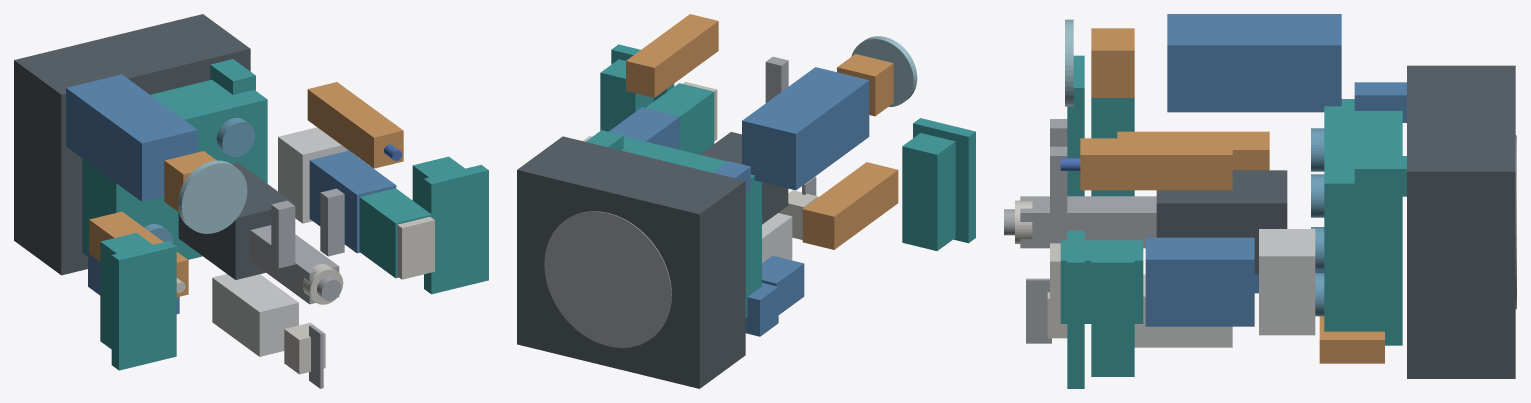
Rendered from dranmar_tumor_resection_tool_traction.glb.
3 views of the same model, side by side, from view 1: azimuth 30°, elevation 25°; view 2: azimuth 150°, elevation 25°; view 3: azimuth 270°, elevation 25° (orthographic). The views are drawn at different scales.
Visible parts, largest first — view 1: Mount_MountBody, BagDeployer_BagDeployerBody, SensorTurret_SensorTurretBody, LeftTraction_LeftPad, RightTraction_RightPad, ScissorCarriage_ScissorCarriageBody, MarginMarker_MarginMarkerBody, AspiratorCarriage_AspiratorCarriageBody, BagDeployer_BagRing, UltrasoundPitch_UltrasoundPitchBody, UltrasoundCompliance_UltrasoundComplianceBody, UltrasoundCarriage_UltrasoundCarriageBody (+15 smaller); view 2: Mount_MountBody, Mount_MountRing, BagDeployer_BagDeployerBody, LeftTraction_LeftTractionBody, RamanProbe_RamanProbeBody, MarginMarker_MarginMarkerBody, SensorTurret_SensorTurretBody, LeftTraction_LeftPad, UltrasoundCompliance_UltrasoundComplianceBody, RightTraction_RightTractionBody, BagDeployer_BagRing, UltrasoundPitch_UltrasoundPitchBody (+10 smaller); view 3: Mount_MountBody, BagDeployer_BagDeployerBody, SensorTurret_SensorTurretBody, UltrasoundPitch_UltrasoundPitchBody, MarginMarker_MarginMarkerBody, AspiratorCarriage_AspiratorCarriageBody, UltrasoundCarriage_UltrasoundCarriageBody, RightTraction_RightTractionBody, AspiratorRotor_AspiratorRotorBody, BagClosure_BagClosureBody, RightTraction_RightPad, RamanProbe_RamanProbeBody (+18 smaller).
Part boxes in pixels (x1,y1,x2,y2): Mount_MountBody: (14, 14, 250, 275); BagDeployer_BagDeployerBody: (66, 74, 197, 201); SensorTurret_SensorTurretBody: (82, 80, 267, 259); LeftTraction_LeftPad: (111, 241, 176, 370); RightTraction_RightPad: (424, 165, 488, 294); ScissorCarriage_ScissorCarriageBody: (212, 274, 298, 356); MarginMarker_MarginMarkerBody: (307, 82, 403, 168); AspiratorCarriage_AspiratorCarriageBody: (178, 162, 294, 279); BagDeployer_BagRing: (178, 160, 247, 233); UltrasoundPitch_UltrasoundPitchBody: (309, 150, 396, 253); UltrasoundCompliance_UltrasoundComplianceBody: (359, 188, 431, 278); UltrasoundCarriage_UltrasoundCarriageBody: (278, 127, 348, 223); Mount_MountBody: (517, 136, 745, 388); Mount_MountRing: (544, 211, 671, 347); BagDeployer_BagDeployerBody: (742, 67, 869, 190); LeftTraction_LeftTractionBody: (902, 133, 955, 250); RamanProbe_RamanProbeBody: (802, 162, 898, 249); MarginMarker_MarginMarkerBody: (626, 14, 718, 97); SensorTurret_SensorTurretBody: (622, 136, 761, 317); LeftTraction_LeftPad: (913, 118, 975, 243); UltrasoundCompliance_UltrasoundComplianceBody: (646, 83, 714, 154); RightTraction_RightTractionBody: (600, 59, 653, 131); BagDeployer_BagRing: (851, 36, 917, 106); UltrasoundPitch_UltrasoundPitchBody: (608, 107, 679, 149); Mount_MountBody: (1407, 65, 1515, 378); BagDeployer_BagDeployerBody: (1167, 14, 1341, 112); SensorTurret_SensorTurretBody: (1324, 99, 1402, 345); UltrasoundPitch_UltrasoundPitchBody: (1145, 237, 1254, 326); MarginMarker_MarginMarkerBody: (1080, 138, 1232, 190); AspiratorCarriage_AspiratorCarriageBody: (1156, 170, 1287, 274); UltrasoundCarriage_UltrasoundCarriageBody: (1259, 229, 1315, 335); RightTraction_RightTractionBody: (1091, 242, 1134, 376); AspiratorRotor_AspiratorRotorBody: (1020, 196, 1156, 248); BagClosure_BagClosureBody: (1091, 28, 1134, 97); RightTraction_RightPad: (1067, 230, 1084, 388); RamanProbe_RamanProbeBody: (1117, 131, 1269, 170).
Size of the model in its own units: 0.225 by 0.136 by 0.2355.
